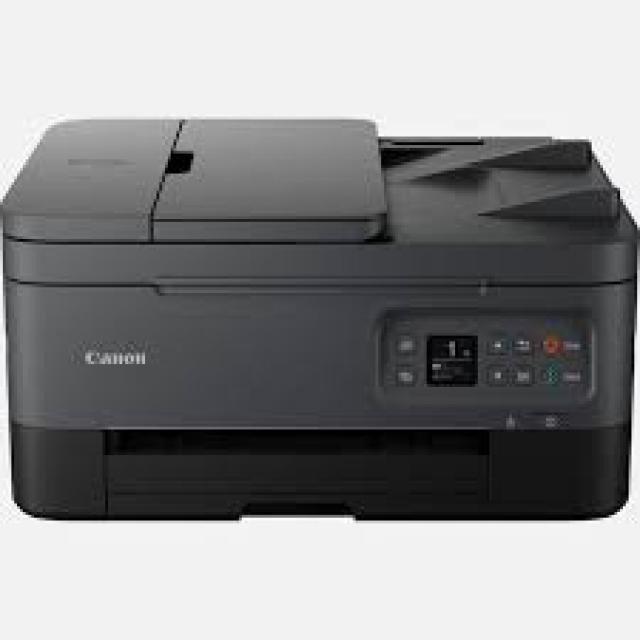printer: (0, 90, 640, 538)
